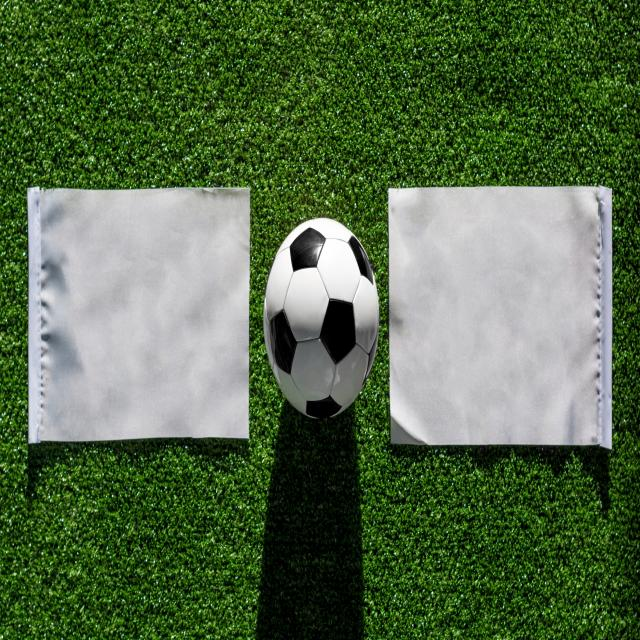soccer ball: (264, 217, 379, 421)
